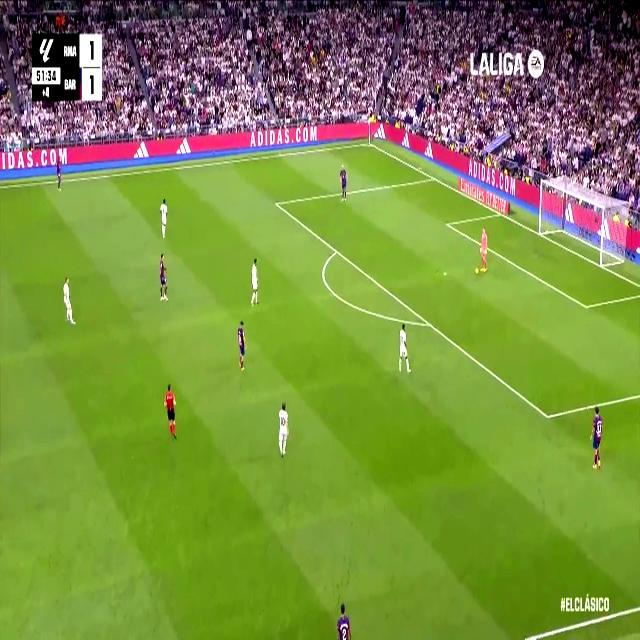bigarea_bottom_inner: (542, 403, 553, 429)
bigarea_top_inner: (272, 195, 280, 210)
bottom_arc_area_intersection: (423, 314, 433, 332)
corner: (364, 136, 374, 148)
smallarea_top_inner: (444, 218, 450, 229)
top_arc_area_intersection: (332, 242, 340, 258)
